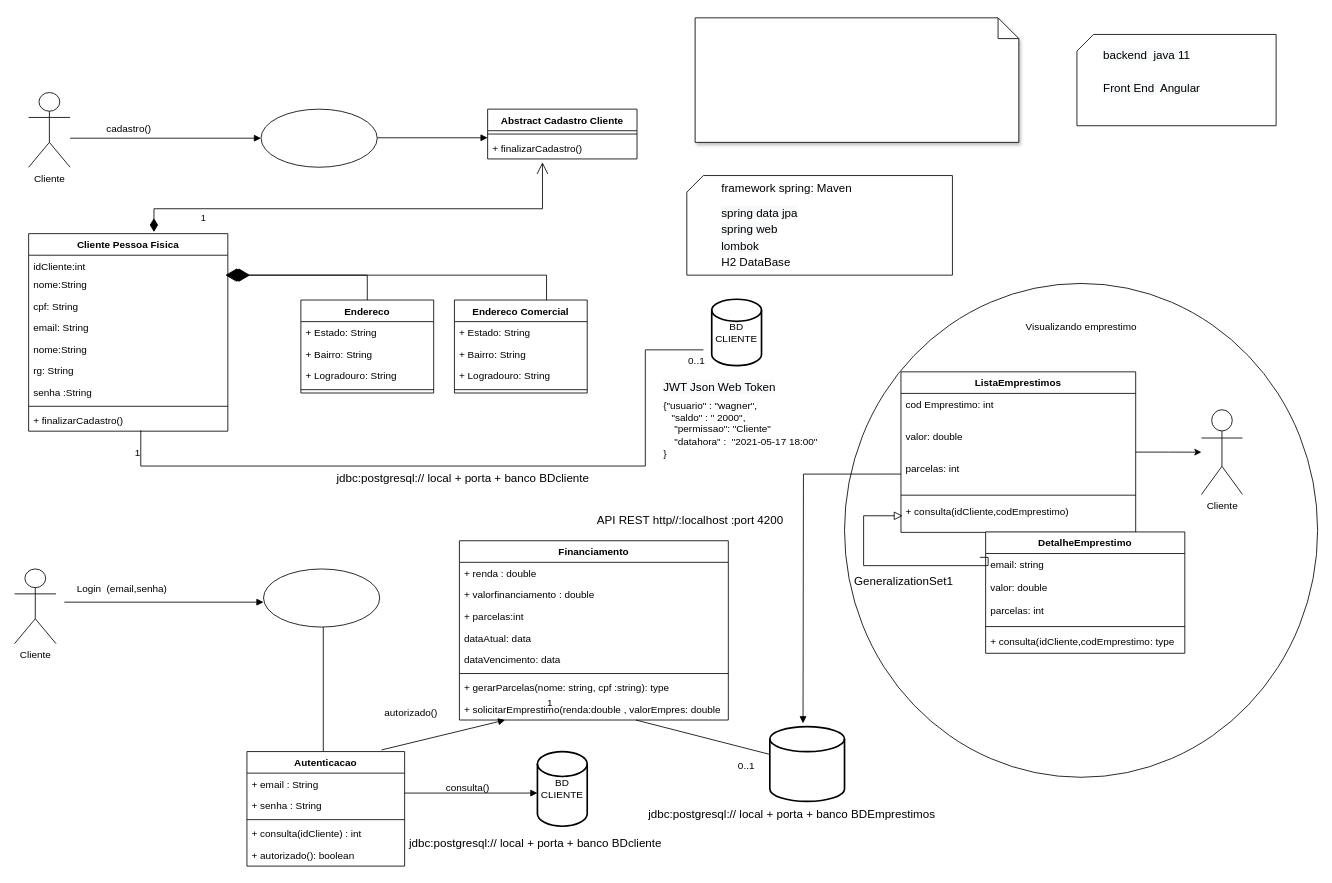
This 1332x883 diagram has some shape labels left out. Here are the shapes that lost their labels. From the top down, the centre of each, then its label:
At [857,81]: "Sistema de Análise de credito".
At [318,137]: "cadastro".
At [321,597]: "Analise de credito".
At [807,763]: "BD Emprestimos".
